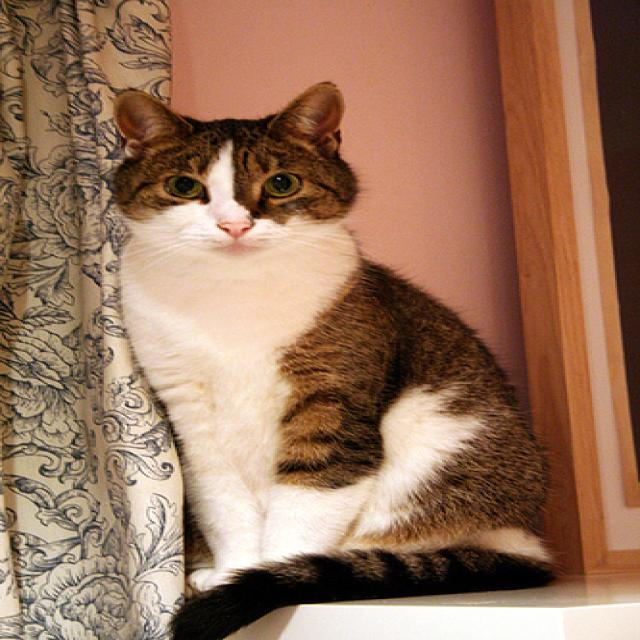left eye: (260, 170, 304, 198)
